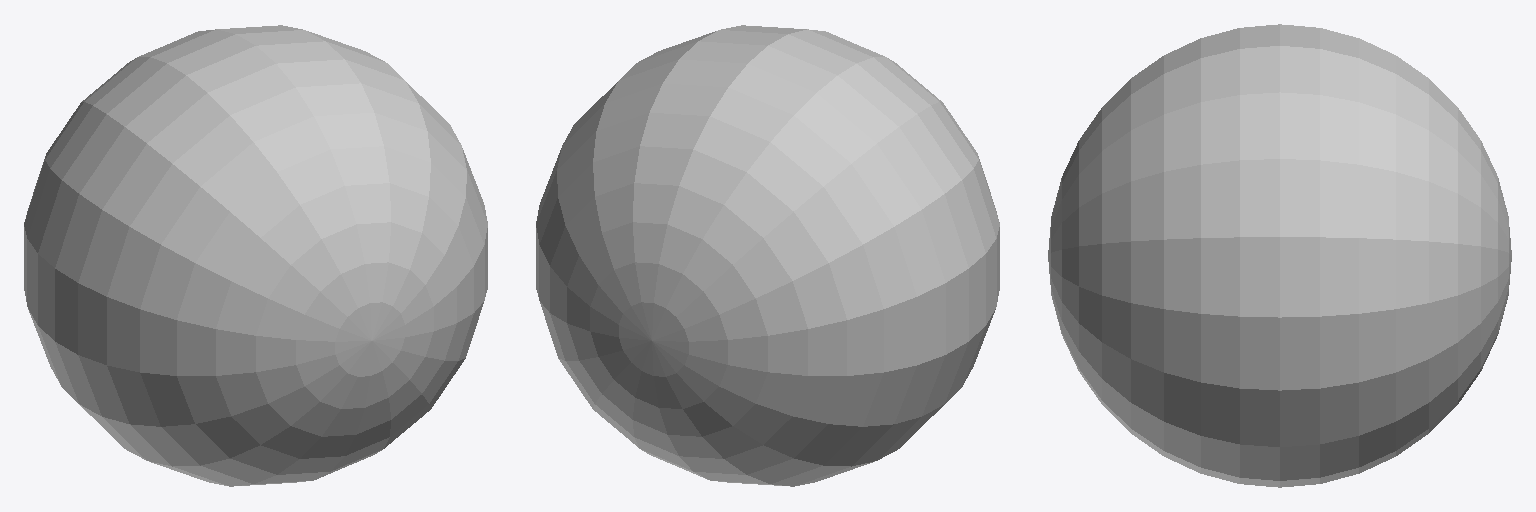
Rendered from skysphere-white.obj.
3 renders of one model, left to right at view 1: azimuth 30°, elevation 25°; view 2: azimuth 150°, elevation 25°; view 3: azimuth 270°, elevation 25°, orthographic.
Visible parts, largest first — view 1: Vertex_Object; view 2: Vertex_Object; view 3: Vertex_Object.
Boxes of the visible parts, <box> form: Vertex_Object: <box>24,25,487,486</box>; Vertex_Object: <box>536,25,999,486</box>; Vertex_Object: <box>1048,24,1511,487</box>.
Size of the model in its own units: 600 by 600 by 600.